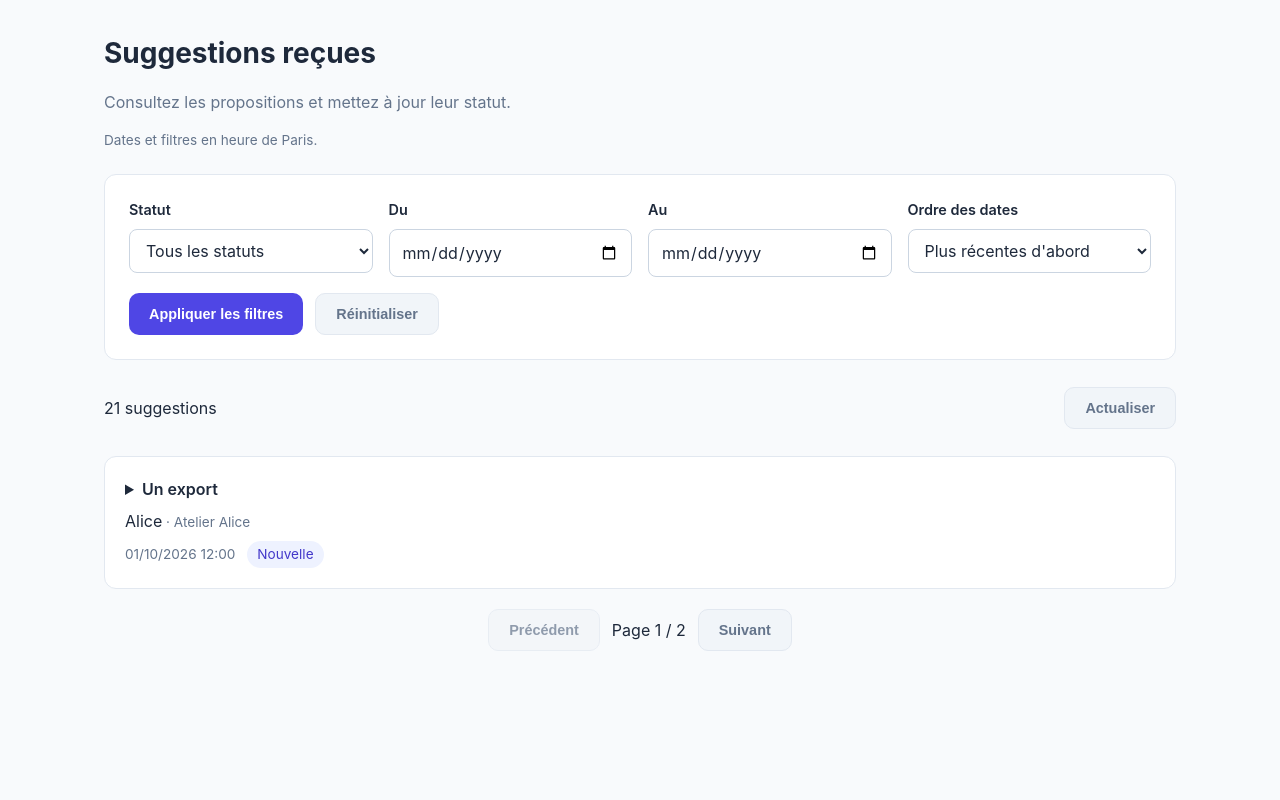
DevSuggestionsView › refuse une periode inversee sans requete
Type "2026-10-02" into the date field with id "suggestion-date-from" at (510, 253), box [388,229,632,277]
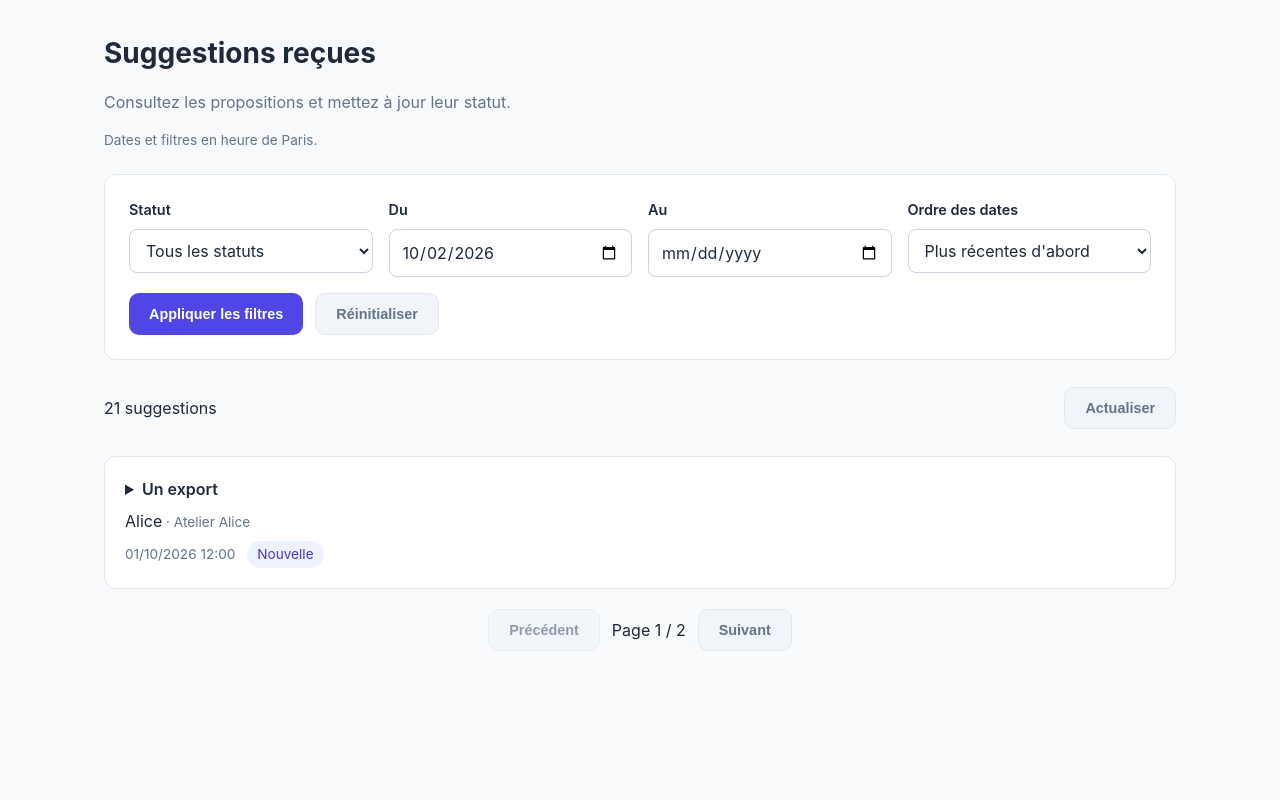
Type "2026-10-01" into the date field with id "suggestion-date-to" at (770, 253), box [648,229,892,277]
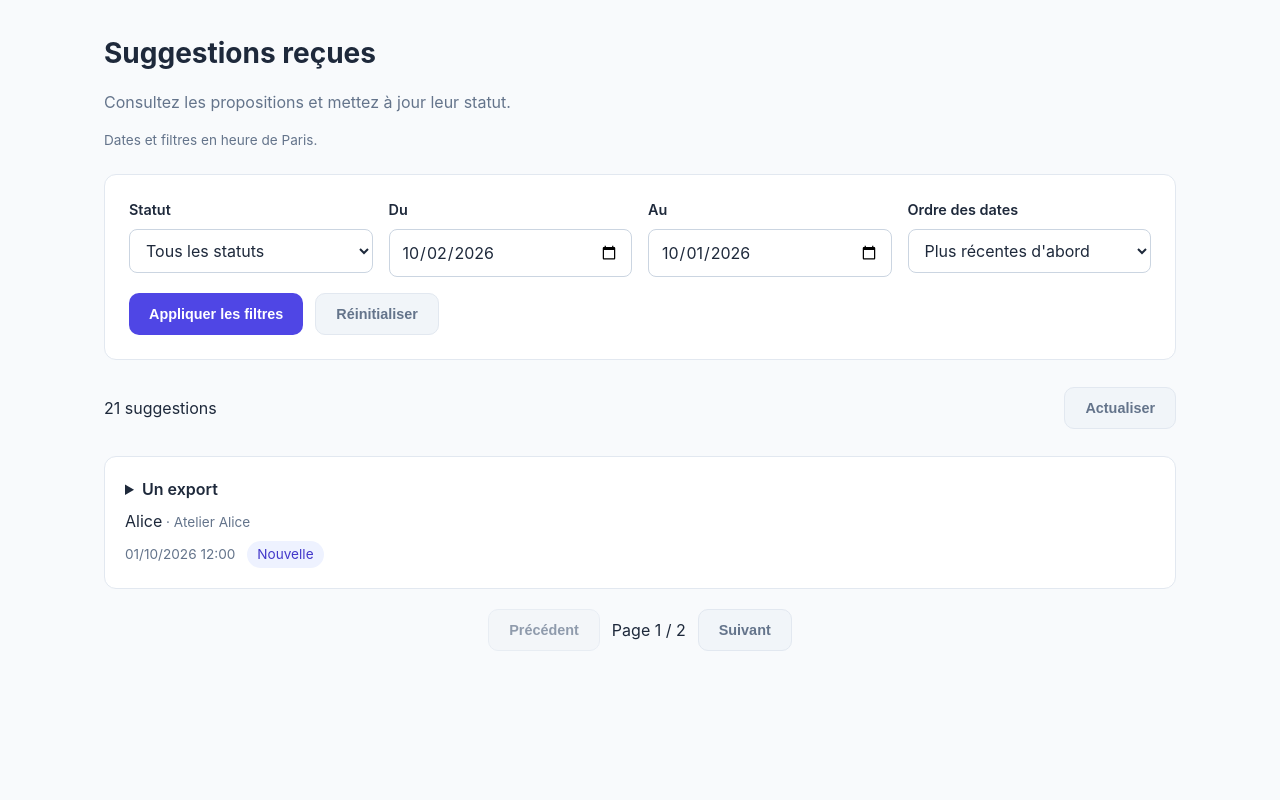
Submit the form with class "suggestions-filters", box [104,174,1176,360]
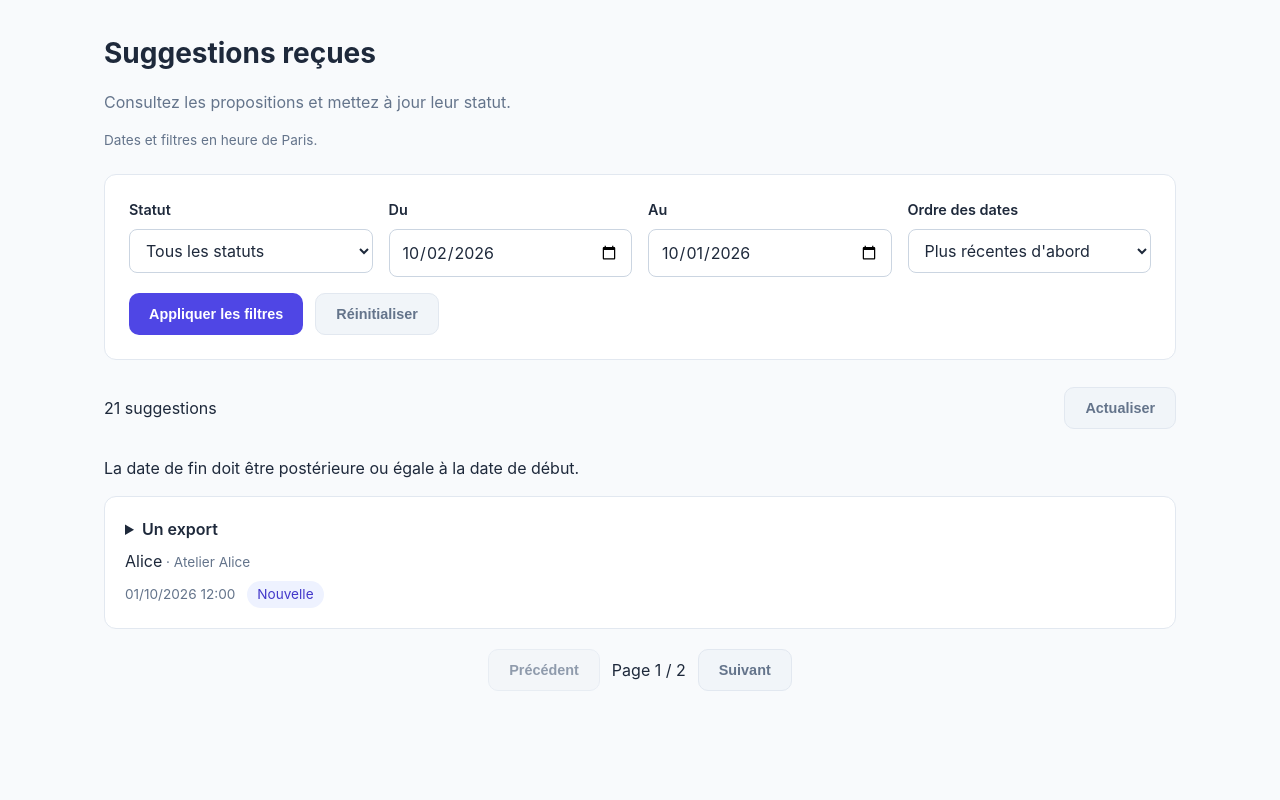
expect the message "La date de fin doit être postérieure ou égale à la date de début." is shown: met, box [104,458,579,478]
